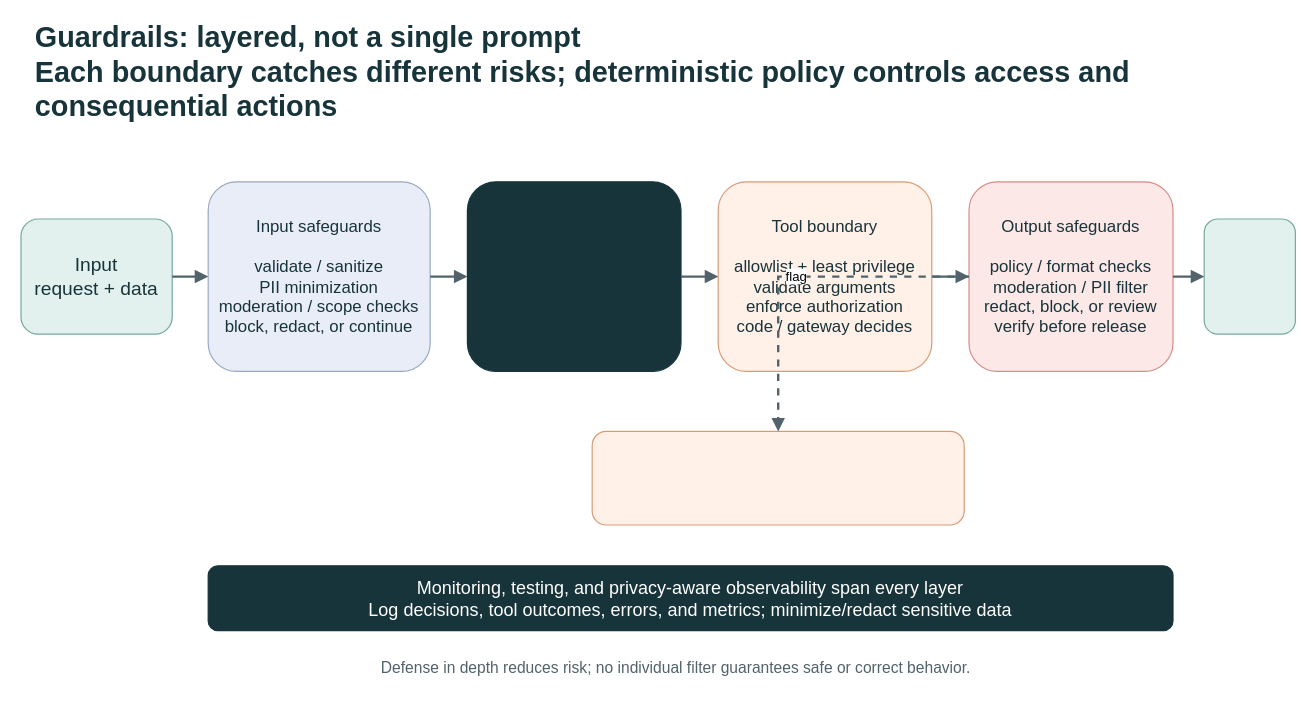
The diagram is 1316 pixels wide and 704 high, and some of its shapes have lost their labels. The centre of each missing label's shape, as x and y in pixels:
"AGENT Behavioral policy instructions guide; they do not authorize" goes at point (573, 276).
"Human review / escalation for high-risk, ambiguous, or flagged cases" goes at point (777, 477).
"User response" goes at point (1249, 276).
